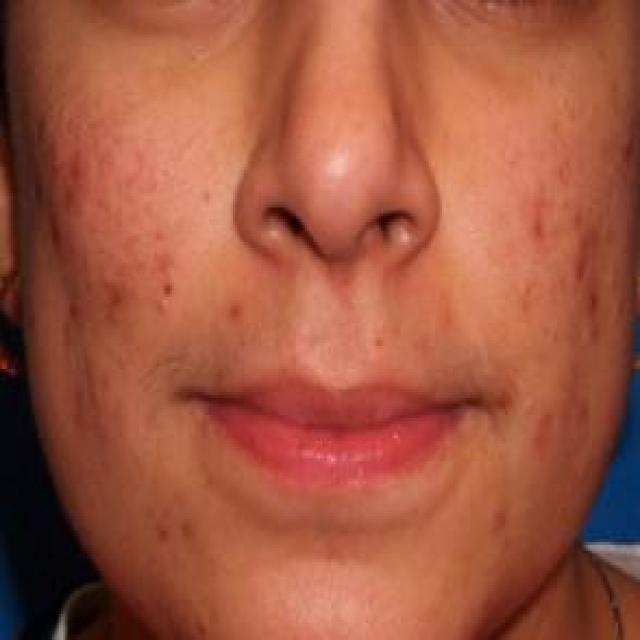Acne: (571, 222, 604, 316), (47, 140, 87, 211)
